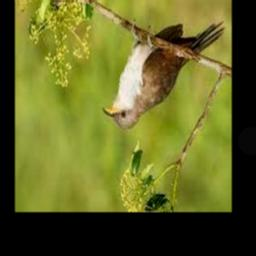Cuckoo: (102, 24, 225, 130)
